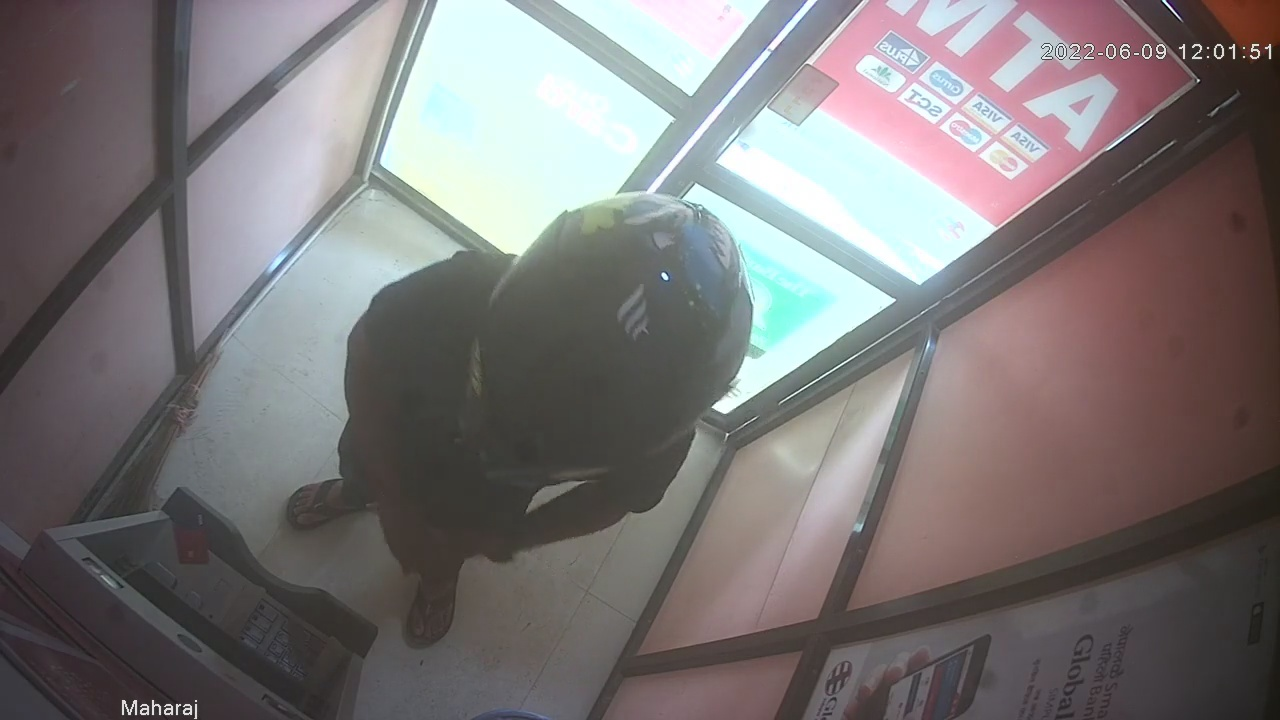helmet: (458, 193, 753, 489)
person: (284, 191, 753, 652)
